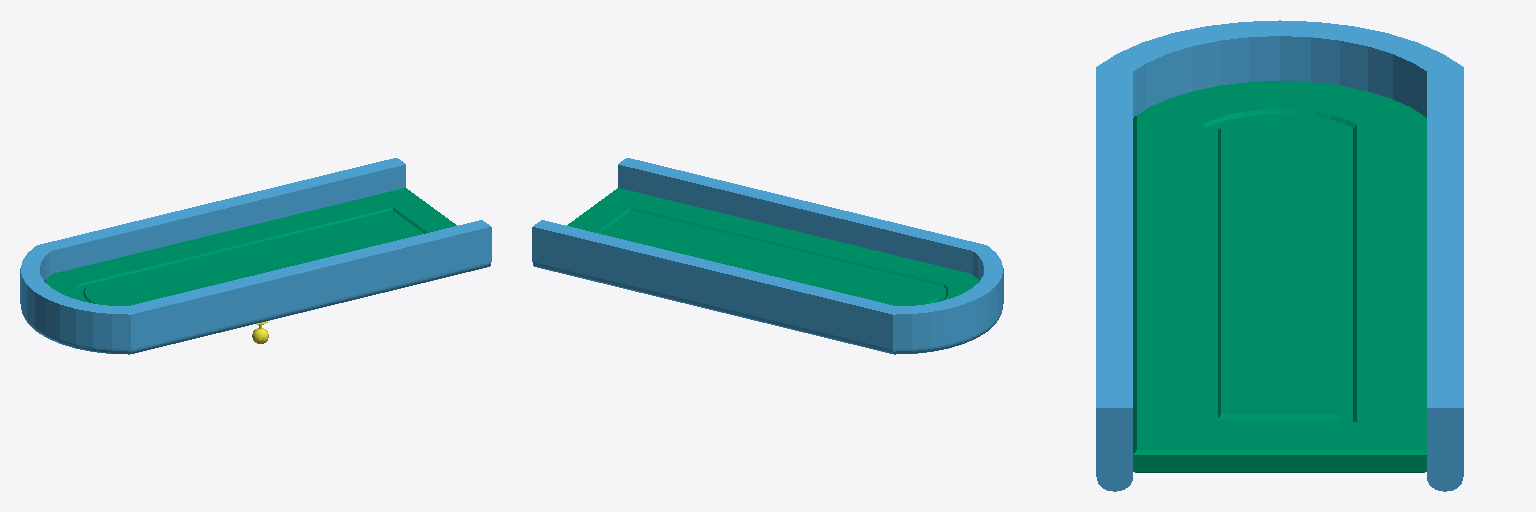
URDF robot description (right-pull-door):
<?xml version="1.0" ?>
<robot name="right-pull-door">
	<mujoco>
        <compiler meshdir="texture_stl" balanceinertia="true" discardvisual="false"/>
    </mujoco>
	<link name="base"/>
	<link name="link_0">
		<visual name="out-frame">
			<origin xyz="0 0 0"/>
			<geometry>
				<mesh filename="texture_stl/frame.stl" scale="0.7385647294113814 0.7385647294113814 0.7385647294113814"/>
			</geometry>
		</visual>
		<collision>
			<origin xyz="0 0 0"/>
			<geometry>
				<mesh filename="texture_stl/frame.stl" scale="0.7385647294113814 0.7385647294113814 0.7385647294113814"/>
			</geometry>
		</collision>
	</link>
	<joint name="joint_0" type="fixed">
		<origin rpy="1.570796326794897 0 -1.570796326794897" xyz="0 0 0"/>
		<child link="link_0"/>
		<parent link="base"/>
	</joint>
	<link name="link_1">
		<visual name="surf-board">
			<origin xyz="0.2948917882924568 -0.8479565114682159 0"/>
			<geometry>
				<mesh filename="texture_stl/board.stl" scale="0.7385647294113814 0.7385647294113814 0.7385647294113814"/>
			</geometry>
		</visual>
		<collision>
			<origin xyz="0.2948917882924568 -0.8479565114682159 0"/>
			<geometry>
				<mesh filename="texture_stl/board.stl" scale="0.7385647294113814 0.7385647294113814 0.7385647294113814"/>
			</geometry>
		</collision>
	</link>
	<joint name="joint_1" type="revolute">
		<origin xyz="-0.2948917882924568 0.8479565114682159 0"/>
		<axis xyz="0 -1 0"/>
		<child link="link_1"/>
		<parent link="link_0"/>
		<limit lower="0" upper="1.5079644737231006"/>
	</joint>
	<link name="link_2">
		<visual name="handle">
			<origin xyz="0 0 0"/>
			<geometry>
				<mesh filename="texture_stl/9962024.stl" scale="1.4908545696326903 1.4908545696326903 1.4908545696326903"/>
			</geometry>
		</visual>
		<collision>
			<origin xyz="0 0 0"/>
			<geometry>
				<mesh filename="texture_stl/9962024.stl" scale="1.4908545696326903 1.4908545696326903 1.4908545696326903"/>
			</geometry>
		</collision>
	</link>
	<joint name="joint_2" type="revolute">
		<origin xyz="0.5108517093344074 -0.9722547823697163 0.028206380412217683"/>
		<child link="link_2"/>
		<parent link="link_1"/>
		<axis xyz="0 0 1"/>
		<limit lower="0" upper="1.5079644737231006"/>
	</joint>
</robot>

--- What the picture shows (computed from the rendered views, not written in the file) ---
The picture shows the robot from 3 angles, left to right: view 1: azimuth 30°, elevation 25°; view 2: azimuth 150°, elevation 25°; view 3: azimuth 270°, elevation 25°; orthographic projection.
Robot: right-pull-door — 4 links, 3 joints (2 revolute, 1 fixed); root link base; default pose: all joints at 0.
Visible links, largest first — view 1: link_0, link_1; view 2: link_0, link_1; view 3: link_1, link_0.
Link boxes in pixels (left/top/right/bottom): link_0: left=20, top=158, right=491, bottom=354; link_1: left=44, top=188, right=456, bottom=305; link_0: left=532, top=158, right=1003, bottom=354; link_1: left=567, top=188, right=979, bottom=305; link_1: left=1133, top=81, right=1426, bottom=472; link_0: left=1096, top=20, right=1463, bottom=491.
Bounding box of the posed robot: 1.85 × 0.7386 × 0.3444 m (x, y, z).
3 mesh visuals loaded from 3 distinct referenced files (3 binary STL).